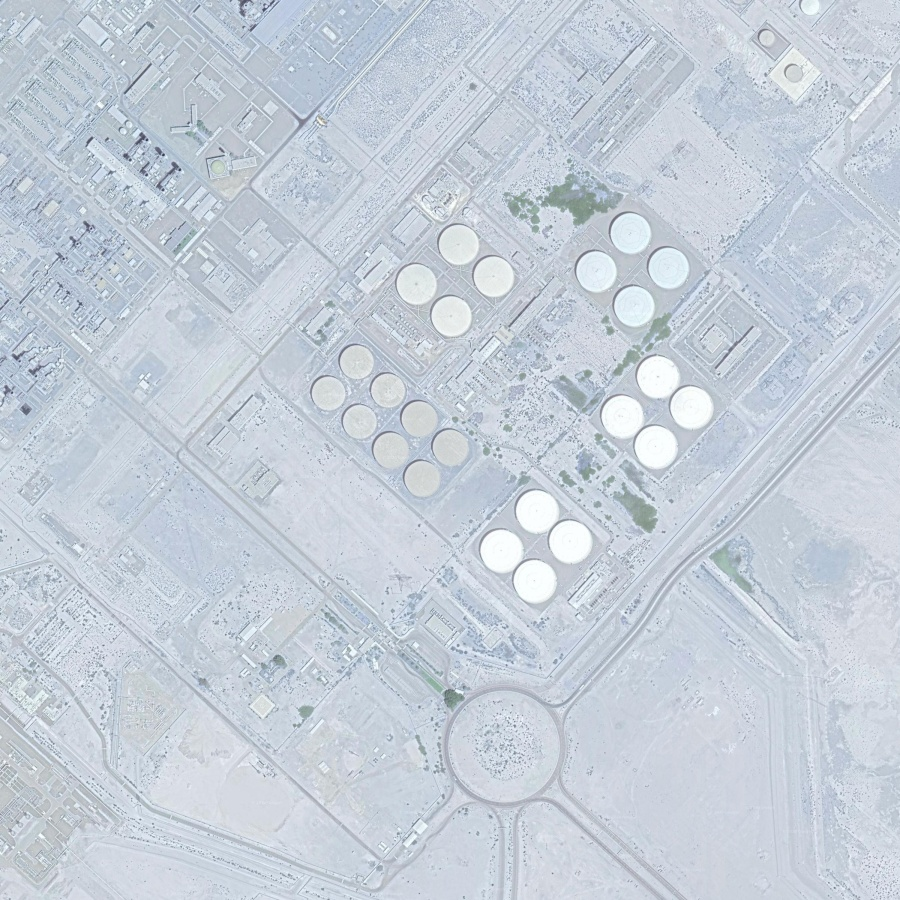PowerPlant: (301, 163, 751, 623)
